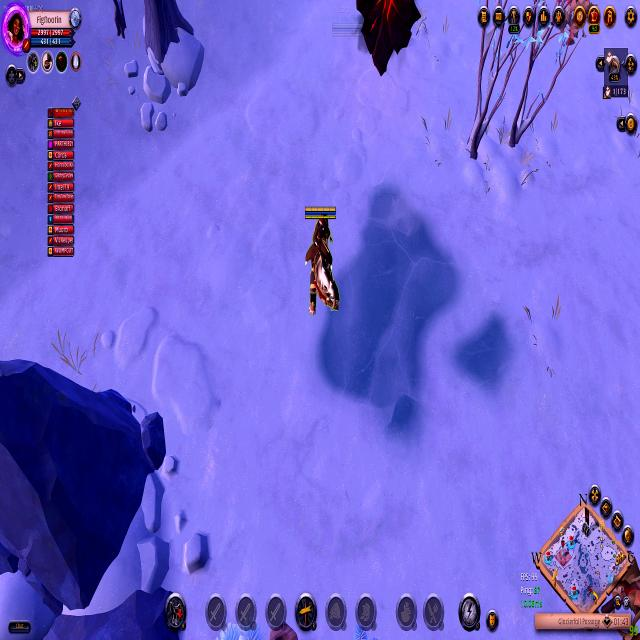ore: (558, 0, 592, 54)
red: (299, 195, 348, 338), (326, 0, 368, 42)
